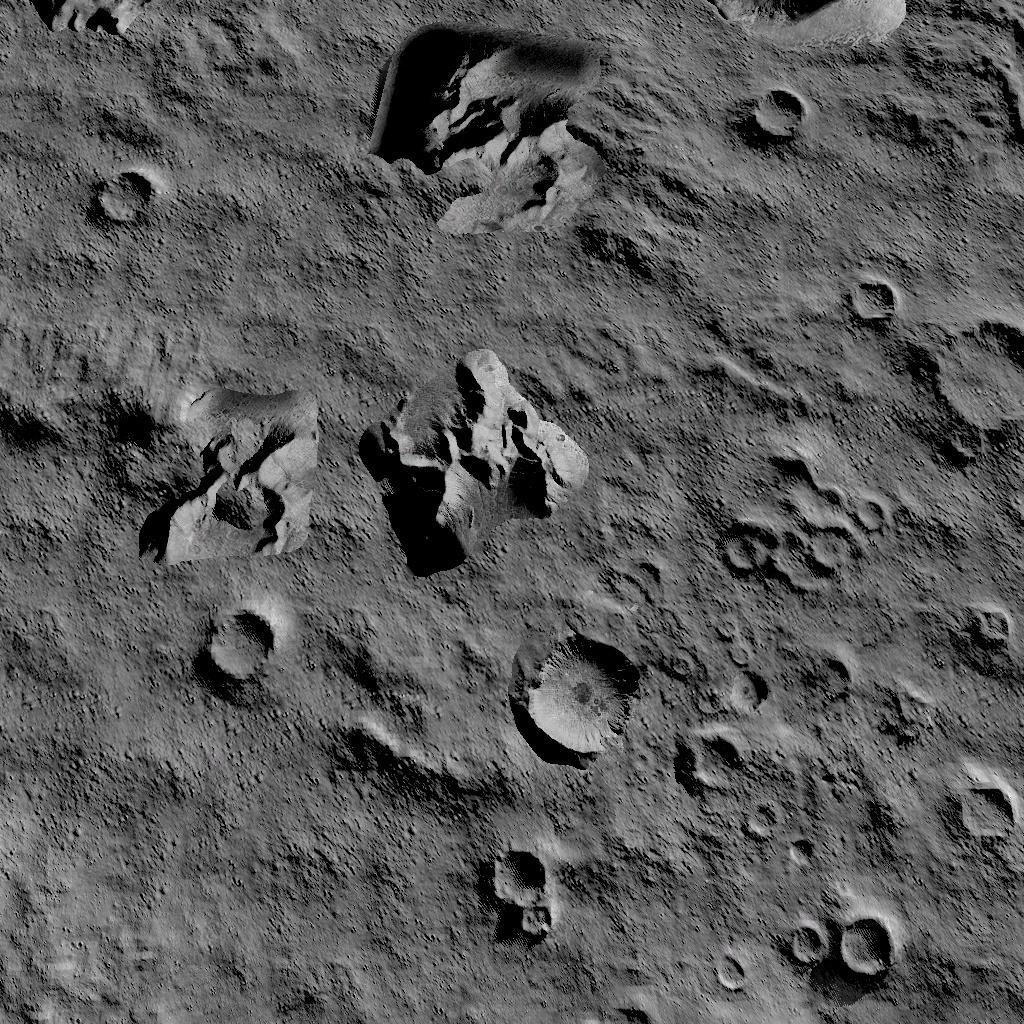Boulders: (0, 326, 324, 580), (344, 350, 594, 586), (367, 30, 622, 246), (333, 710, 497, 808), (0, 0, 180, 53)
Crater: (707, 442, 897, 618), (509, 628, 654, 772), (915, 314, 1024, 454), (696, 0, 908, 69), (770, 902, 908, 998), (179, 606, 291, 710), (468, 840, 564, 959), (668, 733, 764, 812), (940, 774, 1016, 866), (722, 88, 818, 158), (83, 164, 163, 244), (796, 644, 864, 714), (951, 584, 1012, 662), (831, 270, 894, 336), (720, 666, 772, 727)
Plan surface: (5, 592, 171, 1024), (184, 816, 451, 1024)
